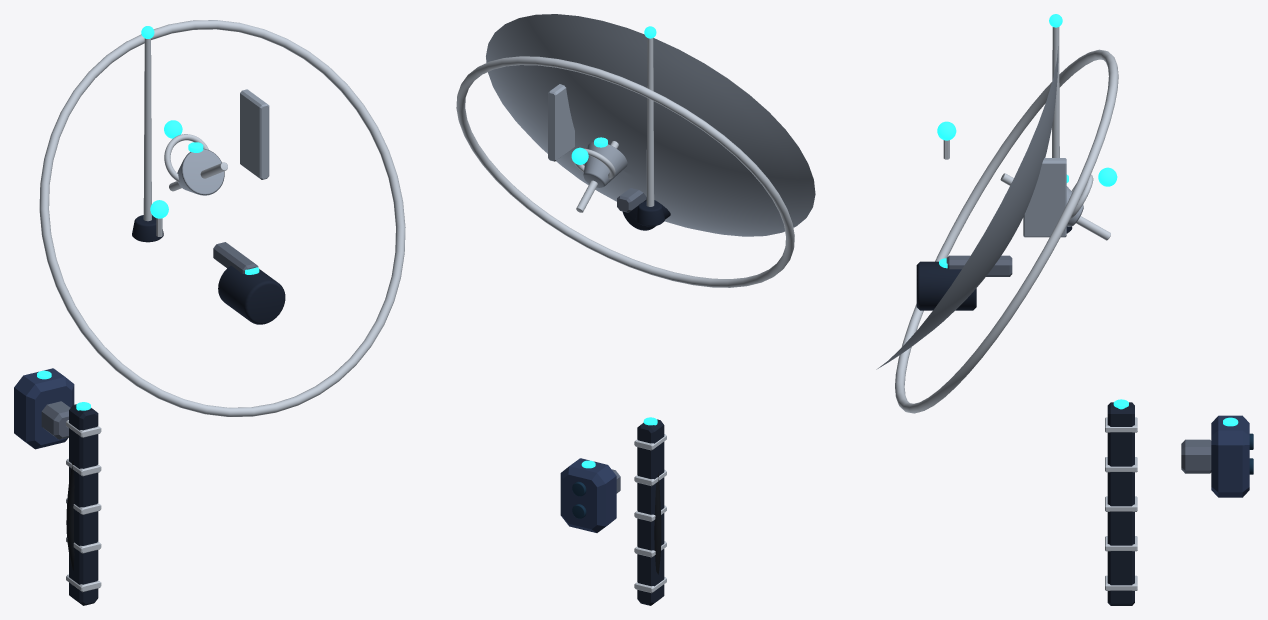
File: tower_skywatch_range_s8.glb
3 renders of one model, left to right at view 1: azimuth 30°, elevation 25°; view 2: azimuth 150°, elevation 25°; view 3: azimuth 270°, elevation 25°, orthographic. The views are drawn at different scales.
Parts seen in each view (by area): view 1: skywatch_wide_rim, skywatch_cable_ladder, skywatch_sensor_cluster, skywatch_dish_counterweight, skywatch_iff_blade, skywatch_feed_horn, skywatch_whip, skywatch_sensor_mount, skywatch_dish_cw_arm, skywatch_ladder_loom, skywatch_whip_base; view 2: skywatch_wide_dish, skywatch_wide_rim, skywatch_cable_ladder, skywatch_sensor_cluster, skywatch_iff_blade, skywatch_whip, skywatch_feed_horn, skywatch_whip_base, skywatch_ladder_loom, skywatch_dish_cw_arm; view 3: skywatch_wide_rim, skywatch_wide_dish, skywatch_cable_ladder, skywatch_sensor_cluster, skywatch_iff_blade, skywatch_dish_counterweight, skywatch_sensor_mount, skywatch_whip, skywatch_dish_cw_arm.
Boxes of the visible parts, x1=… form: skywatch_wide_rim: x1=39, y1=20, x2=405, y2=416; skywatch_cable_ladder: x1=69, y1=404, x2=98, y2=605; skywatch_sensor_cluster: x1=14, y1=368, x2=74, y2=449; skywatch_dish_counterweight: x1=218, y1=265, x2=285, y2=324; skywatch_iff_blade: x1=240, y1=89, x2=269, y2=179; skywatch_feed_horn: x1=177, y1=148, x2=224, y2=195; skywatch_whip: x1=143, y1=38, x2=151, y2=221; skywatch_sensor_mount: x1=41, y1=401, x2=70, y2=439; skywatch_dish_cw_arm: x1=213, y1=242, x2=258, y2=273; skywatch_ladder_loom: x1=66, y1=460, x2=74, y2=570; skywatch_whip_base: x1=132, y1=215, x2=163, y2=242; skywatch_wide_dish: x1=486, y1=14, x2=815, y2=236; skywatch_wide_rim: x1=456, y1=56, x2=794, y2=287; skywatch_cable_ladder: x1=637, y1=419, x2=664, y2=605; skywatch_sensor_cluster: x1=560, y1=458, x2=616, y2=532; skywatch_iff_blade: x1=548, y1=84, x2=574, y2=161; skywatch_whip: x1=646, y1=38, x2=654, y2=206; skywatch_feed_horn: x1=583, y1=142, x2=627, y2=187; skywatch_whip_base: x1=635, y1=201, x2=664, y2=226; skywatch_ladder_loom: x1=654, y1=472, x2=661, y2=574; skywatch_dish_cw_arm: x1=617, y1=188, x2=646, y2=212; skywatch_wide_rim: x1=895, y1=49, x2=1118, y2=413; skywatch_wide_dish: x1=876, y1=46, x2=1058, y2=369; skywatch_cable_ladder: x1=1107, y1=402, x2=1134, y2=605; skywatch_sensor_cluster: x1=1211, y1=415, x2=1249, y2=497; skywatch_iff_blade: x1=1023, y1=158, x2=1066, y2=237; skywatch_dish_counterweight: x1=916, y1=261, x2=976, y2=310; skywatch_sensor_mount: x1=1181, y1=439, x2=1211, y2=473; skywatch_whip: x1=1052, y1=27, x2=1059, y2=157; skywatch_dish_cw_arm: x1=946, y1=255, x2=1012, y2=276.
Bounding box in the file's own units: 1.52 × 2.45 × 1.5.
